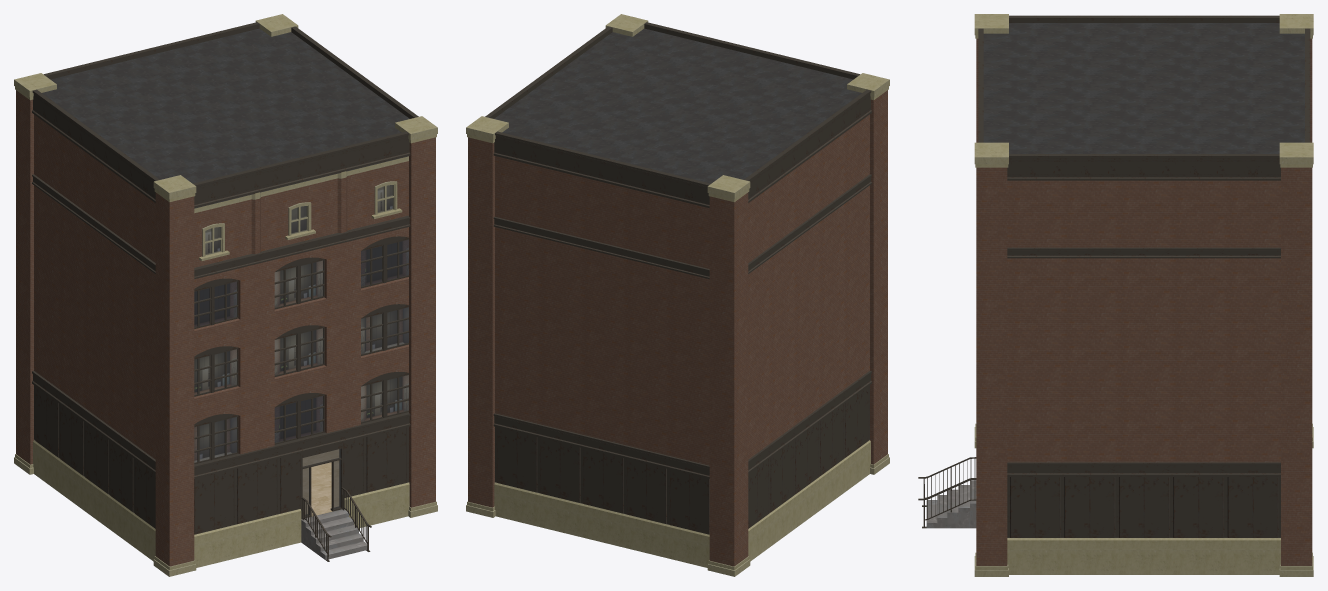
Rendered from Building_Small_1.glb.
3 renders of one model, left to right at view 1: azimuth 30°, elevation 25°; view 2: azimuth 150°, elevation 25°; view 3: azimuth 270°, elevation 25°, orthographic. The views are drawn at different scales.
Visible parts, largest first — view 1: Building_Small_1; view 2: Building_Small_1; view 3: Building_Small_1.
Boxes of the visible parts, x1=… form: Building_Small_1: x1=14, y1=14, x2=437, y2=576; Building_Small_1: x1=466, y1=14, x2=889, y2=576; Building_Small_1: x1=918, y1=14, x2=1313, y2=576.
Size of the model in its own units: 12.46 by 17.03 by 14.54.
10 materials, 9 textured.
